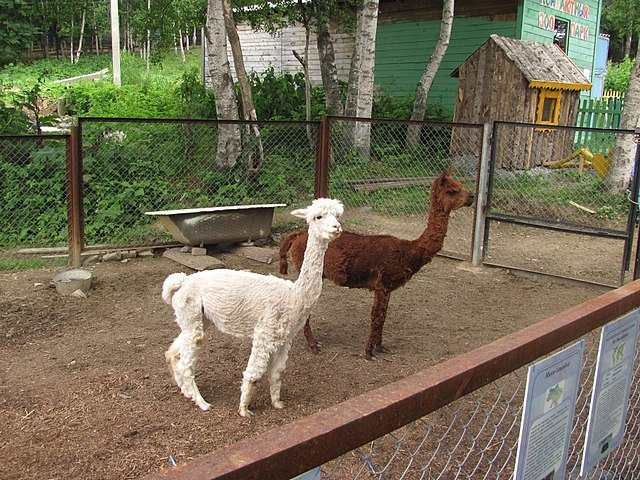alpaca: (161, 196, 344, 418), (279, 169, 476, 360)
